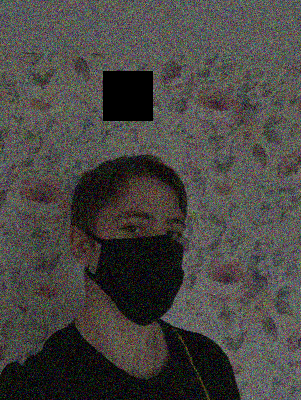with_mask: (94, 198, 189, 327)
